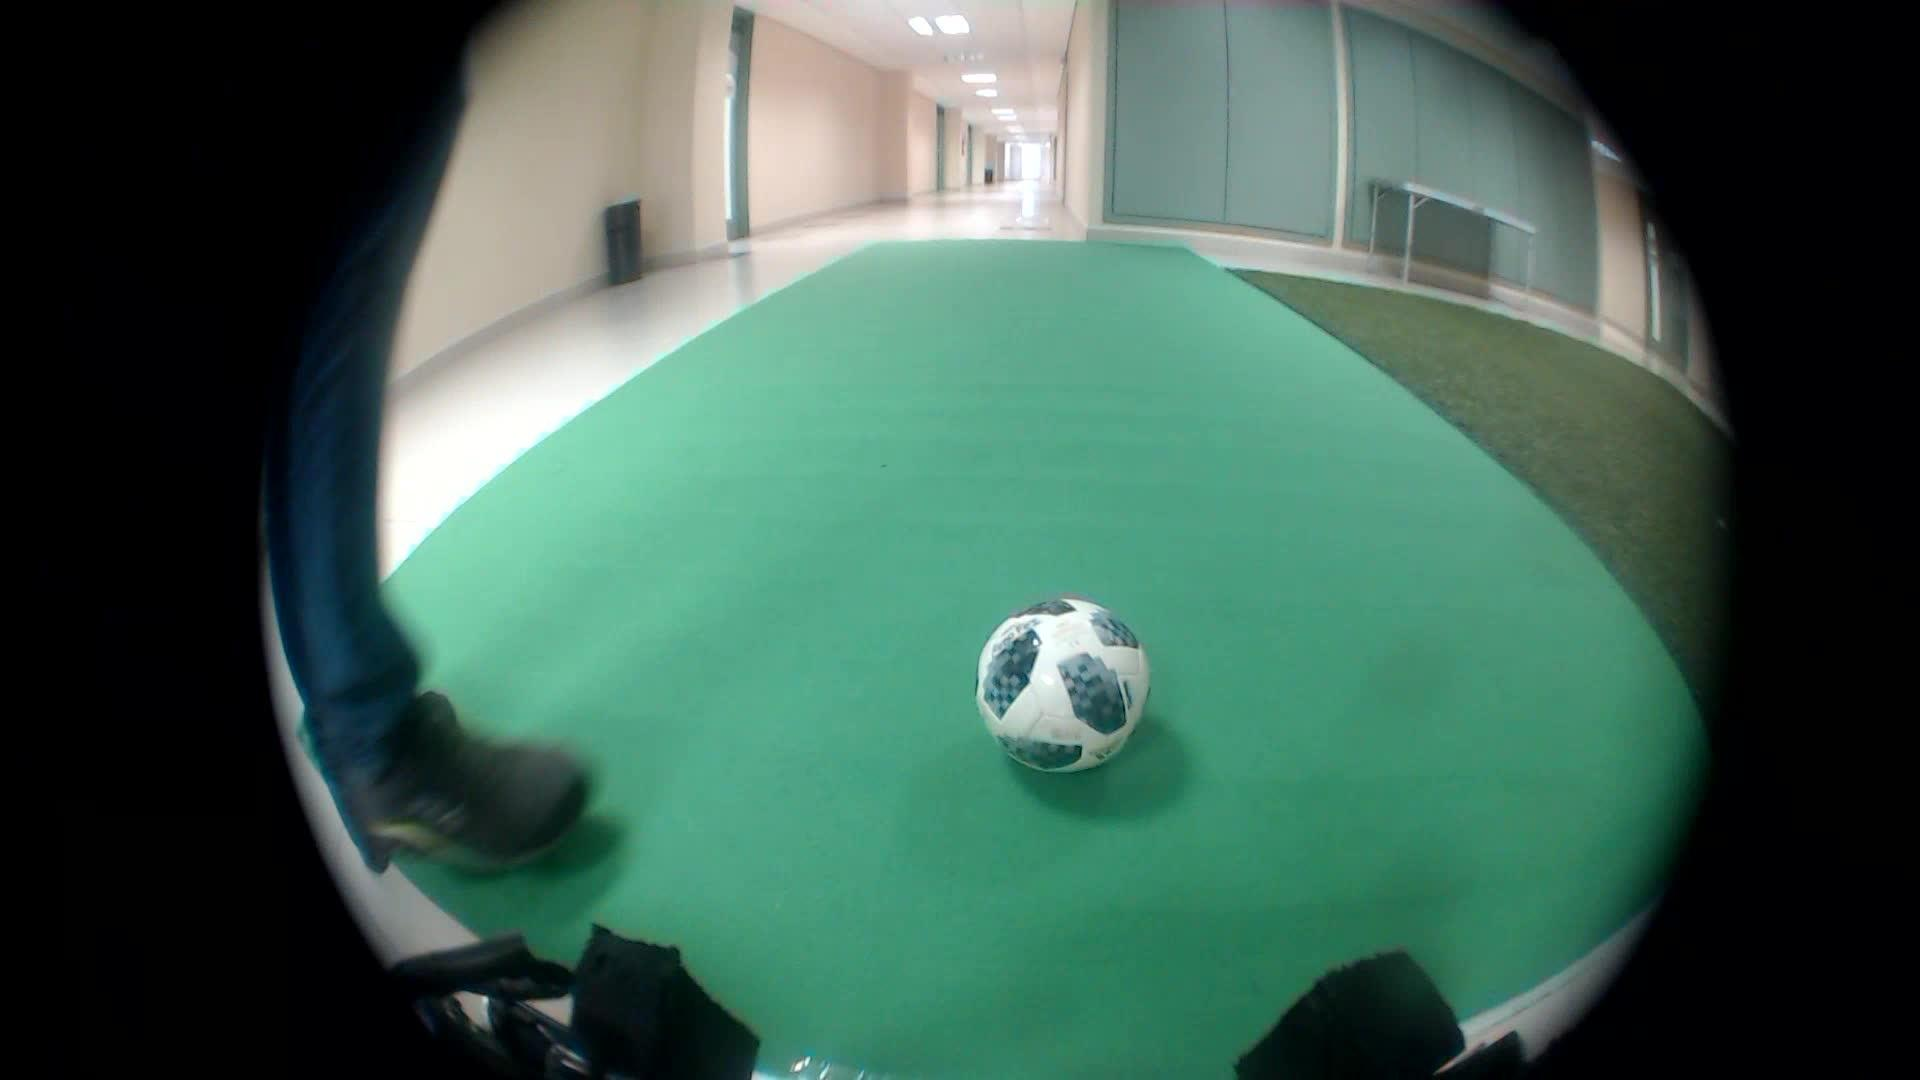ball: (951, 564, 1168, 791)
